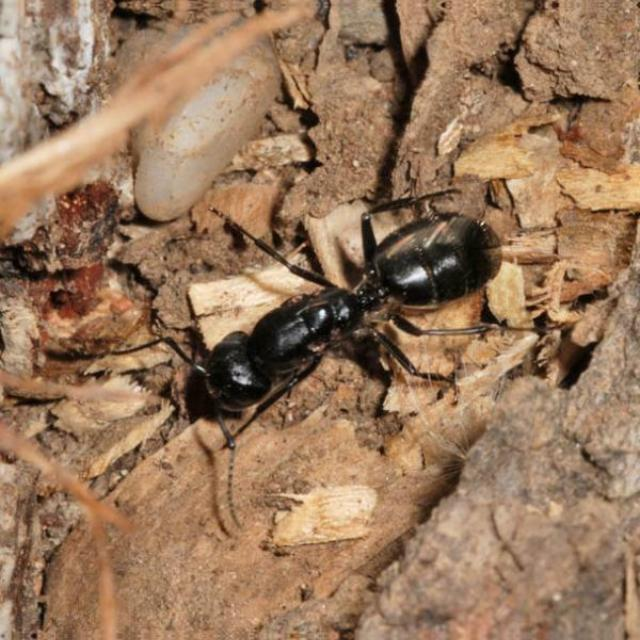Camponotus: (156, 172, 548, 458)
